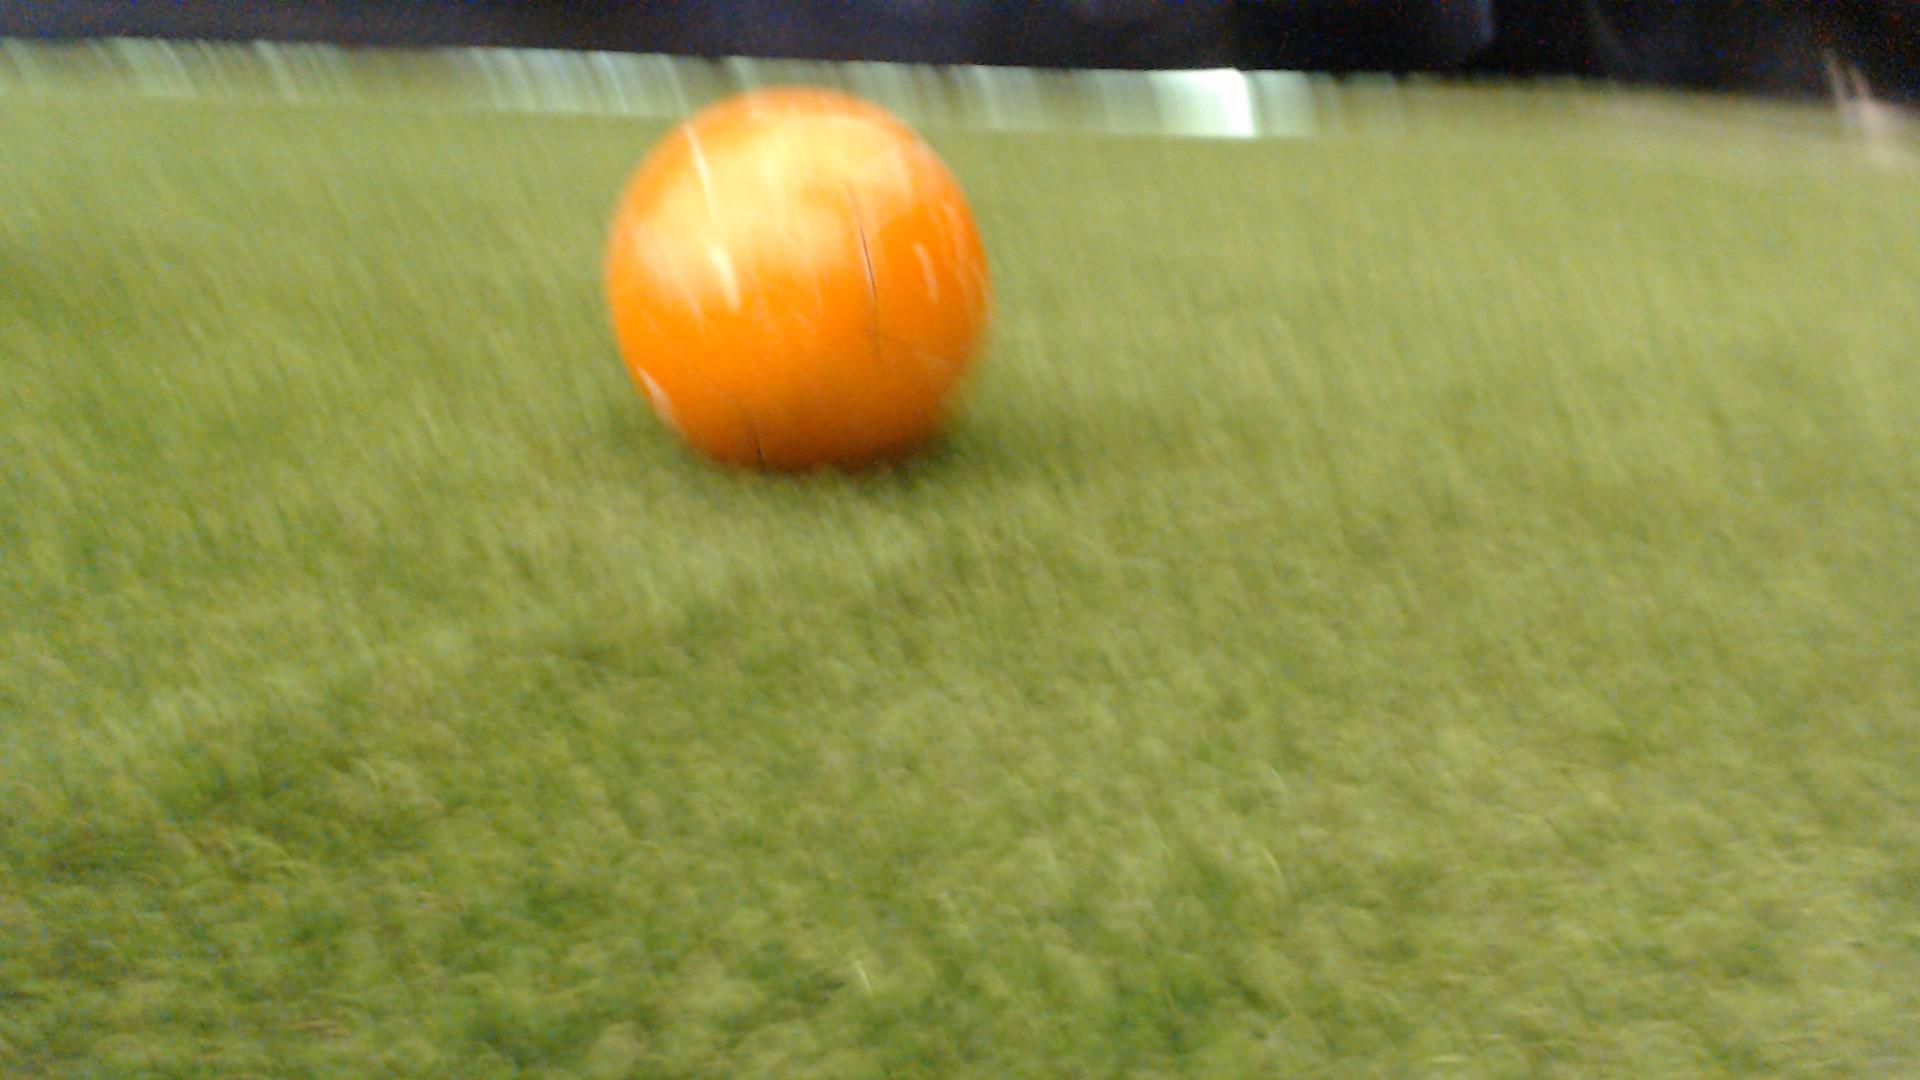bola: (564, 49, 1027, 510)
